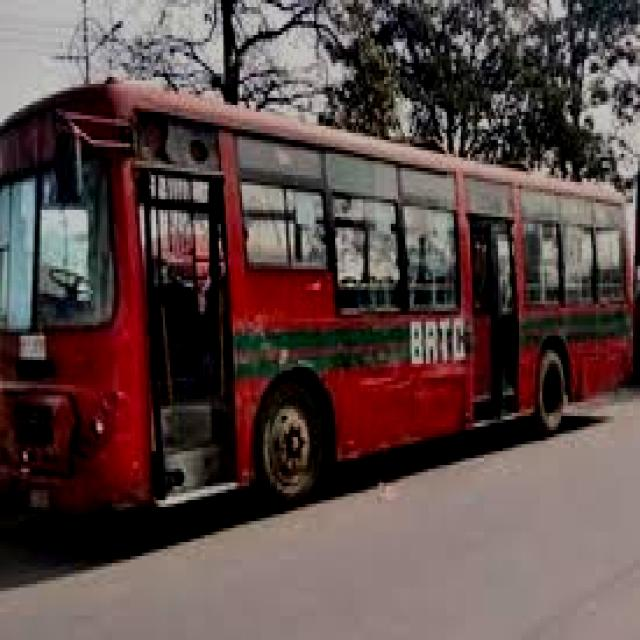bus: (1, 54, 640, 526)
